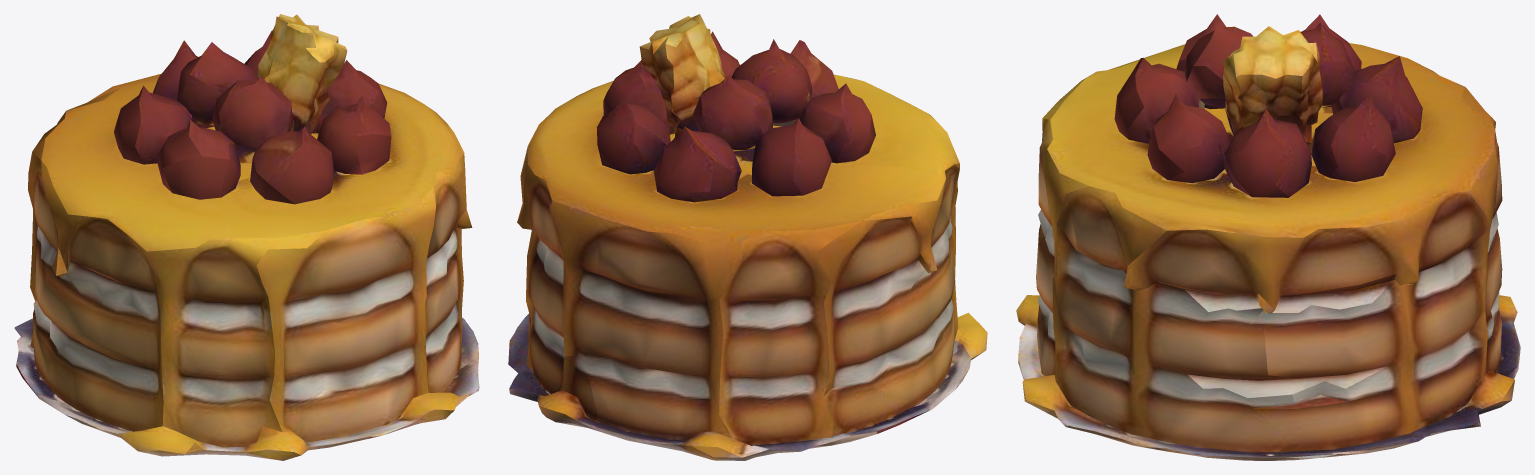
The model's file is founders_cake.glb.
3 renders of one model, left to right at view 1: azimuth 30°, elevation 25°; view 2: azimuth 150°, elevation 25°; view 3: azimuth 270°, elevation 25°, orthographic. The views are drawn at different scales.
Parts seen in each view (by area): view 1: founders_cake; view 2: founders_cake; view 3: founders_cake.
Boxes of the visible parts, x1,y1,x2,y2 form: founders_cake: (14, 14, 479, 460); founders_cake: (508, 14, 987, 460); founders_cake: (1016, 14, 1520, 460).
Size of the model in its own units: 0.9963 by 0.7842 by 1.
Materials: 1 (1 with a texture image).
